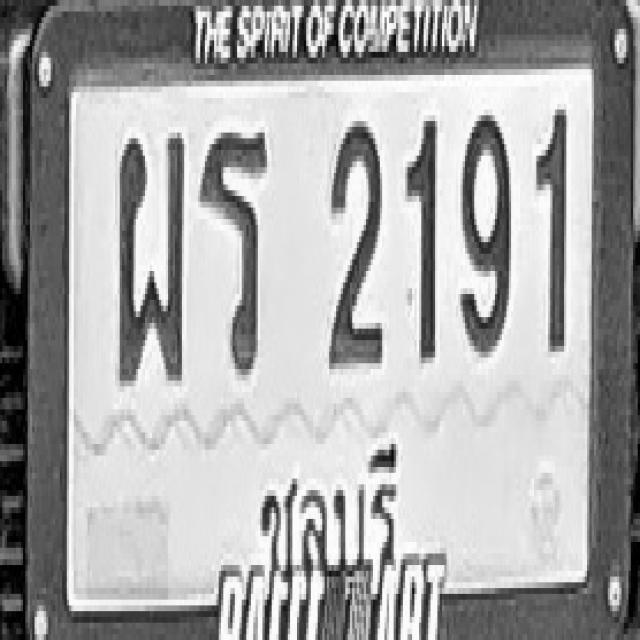1: (404, 115, 436, 364), (534, 104, 566, 352)
2: (329, 118, 382, 366)
37PhorPhueng: (118, 132, 184, 380)
44RorRuea: (200, 127, 267, 375)
9: (459, 110, 510, 352)
Chonburi: (250, 436, 398, 589)
